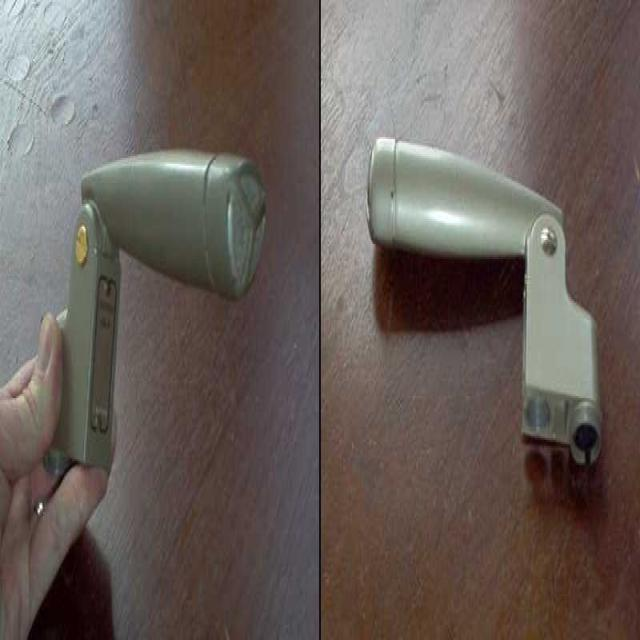microphone: (67, 139, 276, 312), (366, 134, 559, 264)
